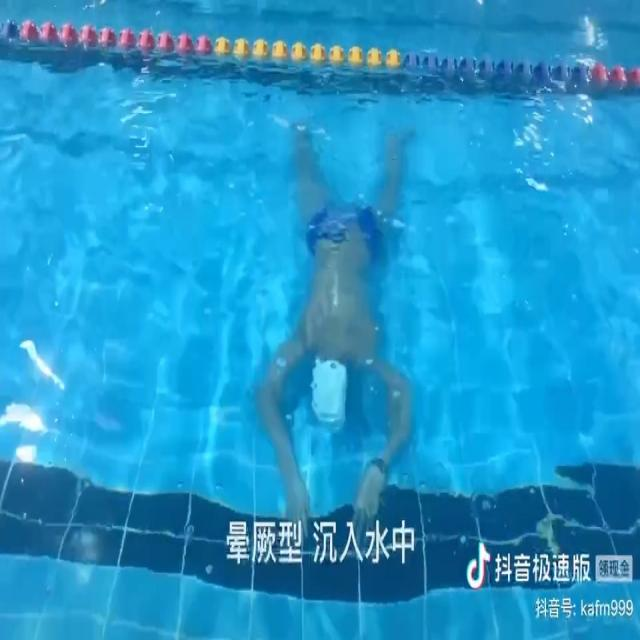Drowning: (259, 123, 419, 539)
